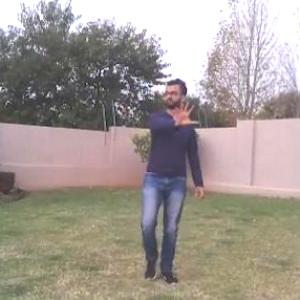follow_hand: (171, 94, 202, 126)
